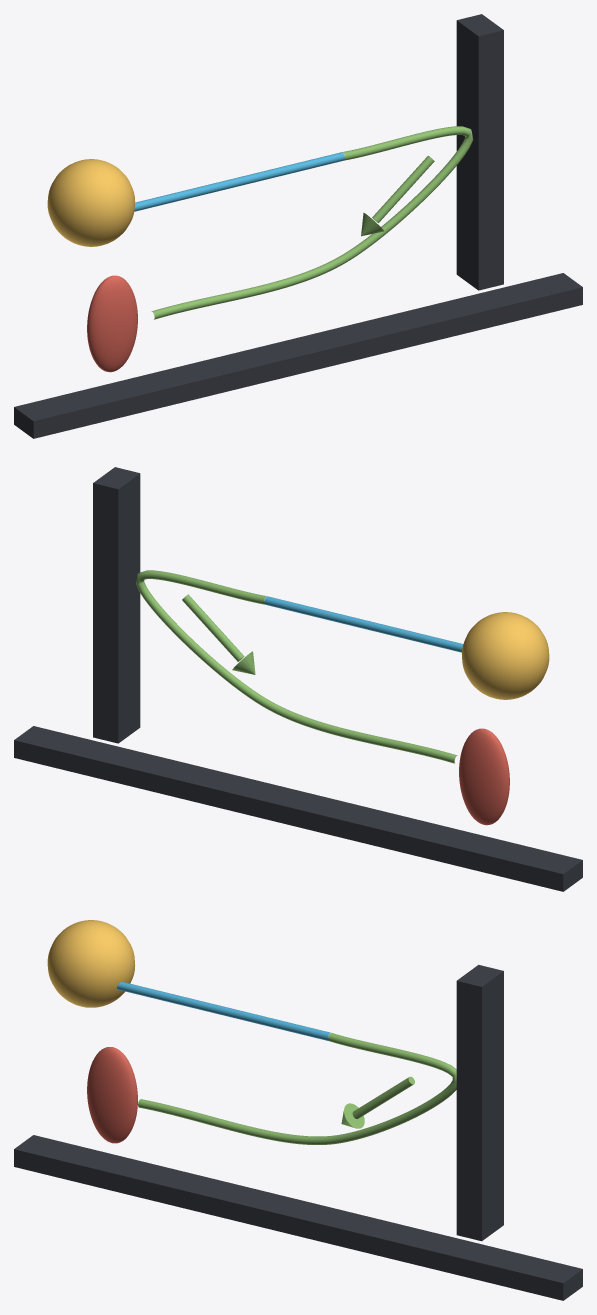
The model's file is physics-sound-echo.glb.
3 renders of one model, top to bottom at view 1: azimuth 30°, elevation 25°; view 2: azimuth 150°, elevation 25°; view 3: azimuth 330°, elevation 25°, orthographic.
Parts seen in each view (by area): view 1: quiet-stage-reference-base, reflecting-wall-hard-surface, direct-sound-source-clap, return-path-delayed-echo, listener-ear-hears-delay, direct-sound-short-path, reflection-turnaround-shaft; view 2: quiet-stage-reference-base, reflecting-wall-hard-surface, direct-sound-source-clap, return-path-delayed-echo, listener-ear-hears-delay, direct-sound-short-path, reflection-turnaround-shaft; view 3: quiet-stage-reference-base, reflecting-wall-hard-surface, direct-sound-source-clap, return-path-delayed-echo, listener-ear-hears-delay, direct-sound-short-path, reflection-turnaround-shaft.
Part boxes in pixels (box(x1,y1,x2,y2)): quiet-stage-reference-base: box(14, 273, 582, 438); reflecting-wall-hard-surface: box(456, 14, 503, 290); direct-sound-source-clap: box(47, 159, 135, 246); return-path-delayed-echo: box(151, 126, 473, 319); listener-ear-hears-delay: box(87, 275, 137, 372); direct-sound-short-path: box(134, 152, 344, 211); reflection-turnaround-shaft: box(372, 155, 434, 223); quiet-stage-reference-base: box(14, 726, 582, 891); reflecting-wall-hard-surface: box(93, 467, 140, 743); direct-sound-source-clap: box(461, 612, 549, 699); return-path-delayed-echo: box(136, 570, 457, 763); listener-ear-hears-delay: box(459, 728, 509, 825); direct-sound-short-path: box(264, 596, 463, 652); reflection-turnaround-shaft: box(182, 594, 244, 661); quiet-stage-reference-base: box(14, 1135, 582, 1300); reflecting-wall-hard-surface: box(456, 964, 503, 1241); direct-sound-source-clap: box(47, 920, 135, 1007); return-path-delayed-echo: box(138, 1033, 456, 1144); listener-ear-hears-delay: box(87, 1047, 137, 1143); direct-sound-short-path: box(117, 982, 330, 1040); reflection-turnaround-shaft: box(352, 1076, 414, 1118).
Size of what is drawn, in the model's own units: 2.6 by 1.33 by 0.36.
